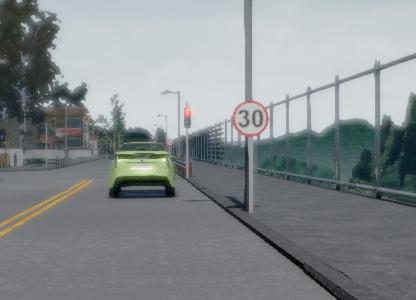Speed_30: (230, 101, 271, 139)
